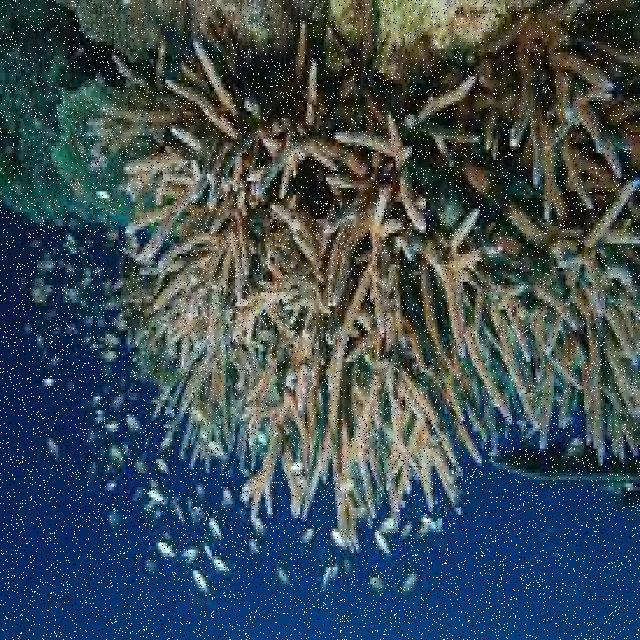Healthy: (92, 22, 640, 565)
